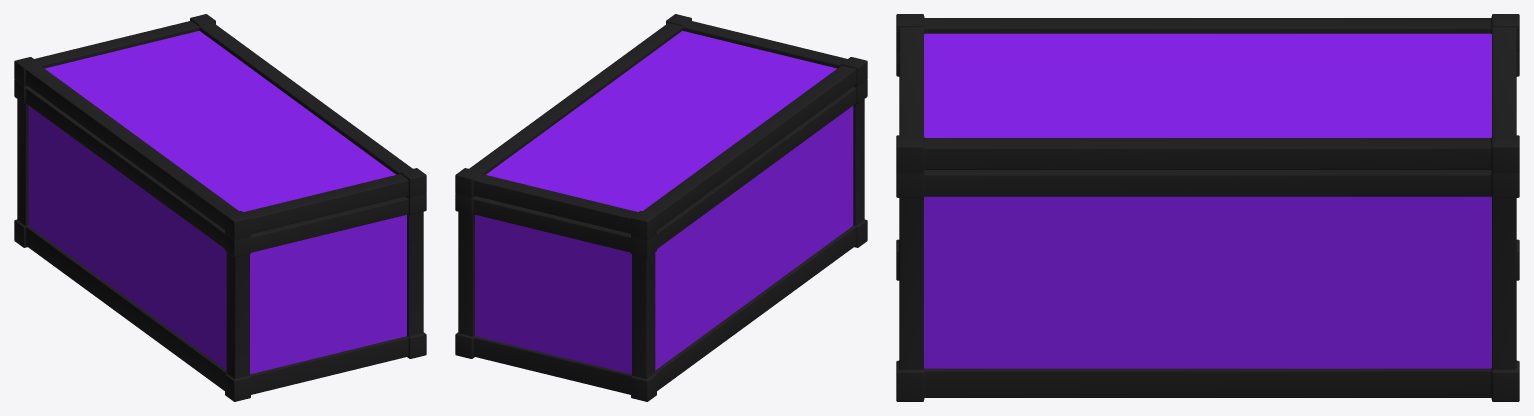
File: SM_Baul.fbx
3 renders of one model, left to right at view 1: azimuth 30°, elevation 25°; view 2: azimuth 150°, elevation 25°; view 3: azimuth 270°, elevation 25°, orthographic. The views are drawn at different scales.
Parts seen in each view (by area): view 1: SM_Baul_Bajo, SM_Baul_Tapa001, SM_Baul_Bajo001, SM_Baul_Tapa; view 2: SM_Baul_Bajo, SM_Baul_Tapa001, SM_Baul_Bajo001, SM_Baul_Tapa; view 3: SM_Baul_Bajo, SM_Baul_Tapa001, SM_Baul_Bajo001, SM_Baul_Tapa.
Boxes of the visible parts, x1,y1,x2,y2 form: SM_Baul_Bajo: (28, 106, 406, 374); SM_Baul_Tapa001: (45, 31, 395, 211); SM_Baul_Bajo001: (14, 80, 426, 401); SM_Baul_Tapa: (14, 14, 426, 240); SM_Baul_Bajo: (475, 106, 853, 374); SM_Baul_Tapa001: (486, 31, 836, 211); SM_Baul_Bajo001: (455, 80, 867, 401); SM_Baul_Tapa: (455, 14, 867, 240); SM_Baul_Bajo: (924, 196, 1491, 368); SM_Baul_Tapa001: (924, 33, 1491, 137); SM_Baul_Bajo001: (896, 52, 1519, 401); SM_Baul_Tapa: (896, 14, 1519, 173).
Bounding box in the file's own units: 51 × 45.75 × 101.
